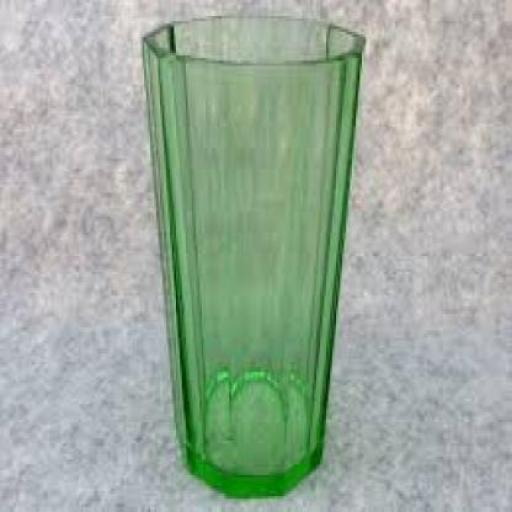glass: (141, 16, 364, 494)
